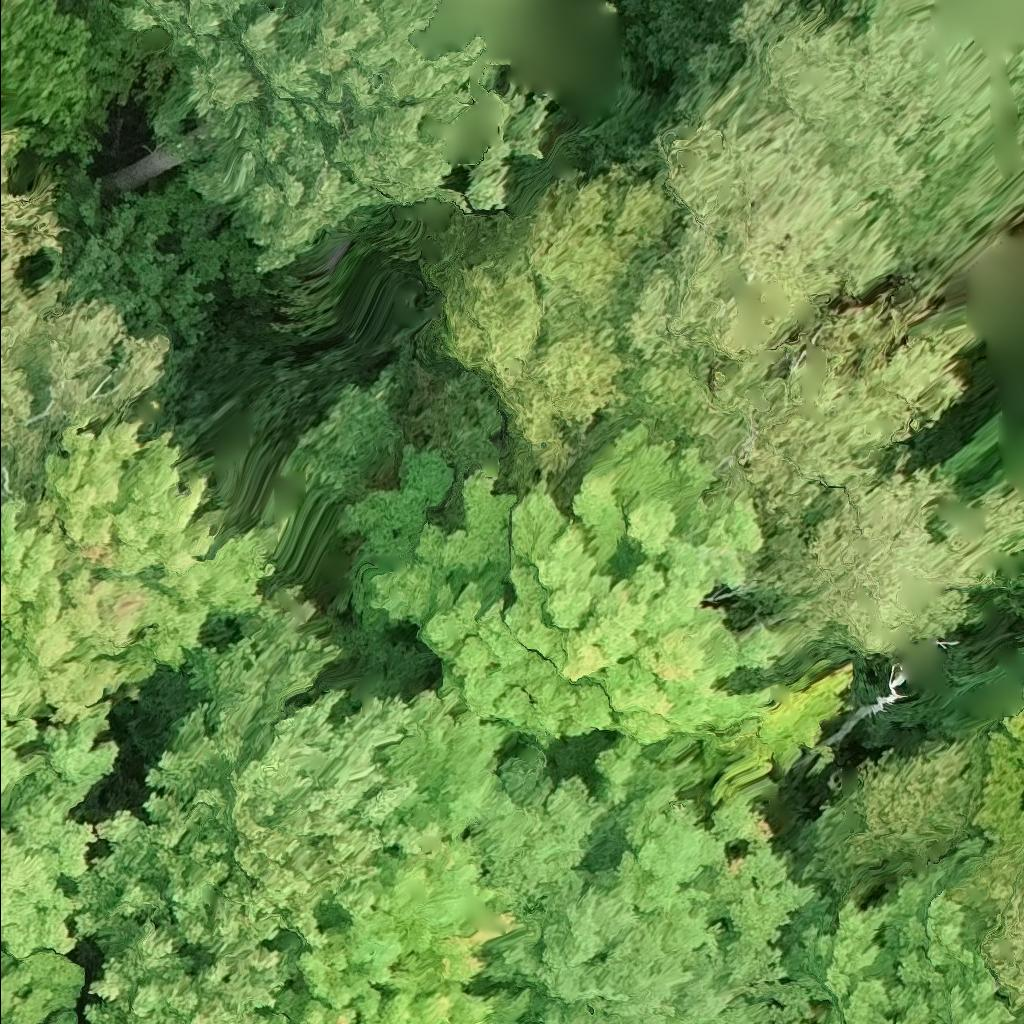crown: (0, 420, 275, 957), (0, 946, 86, 1023)
